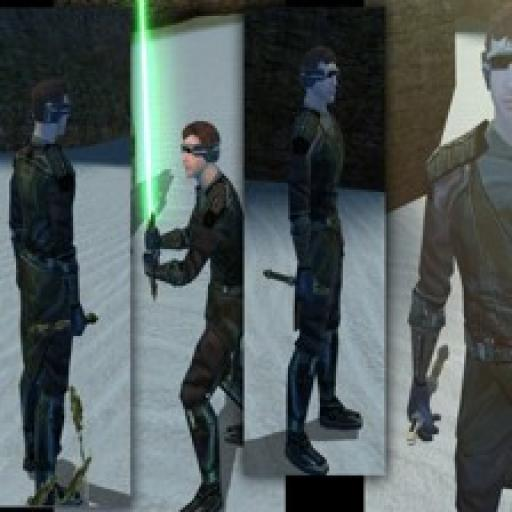lightsaber: (136, 5, 164, 304), (406, 347, 454, 448), (266, 268, 332, 300), (30, 312, 101, 339)
